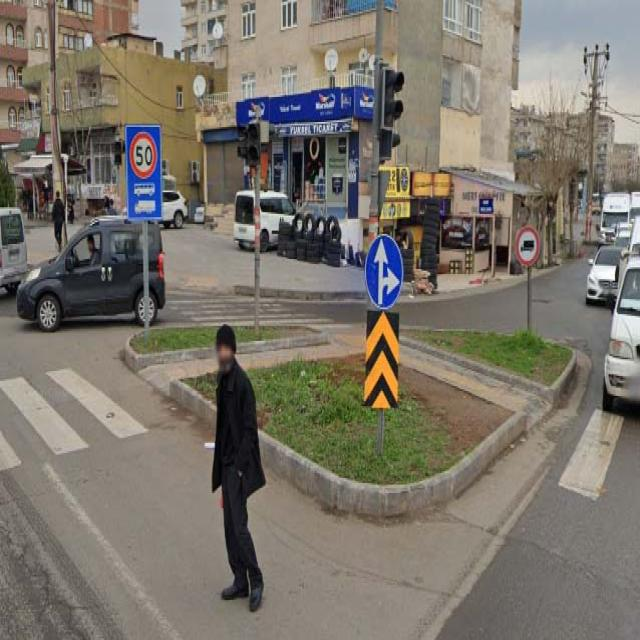ilerisag: (366, 230, 402, 310)
